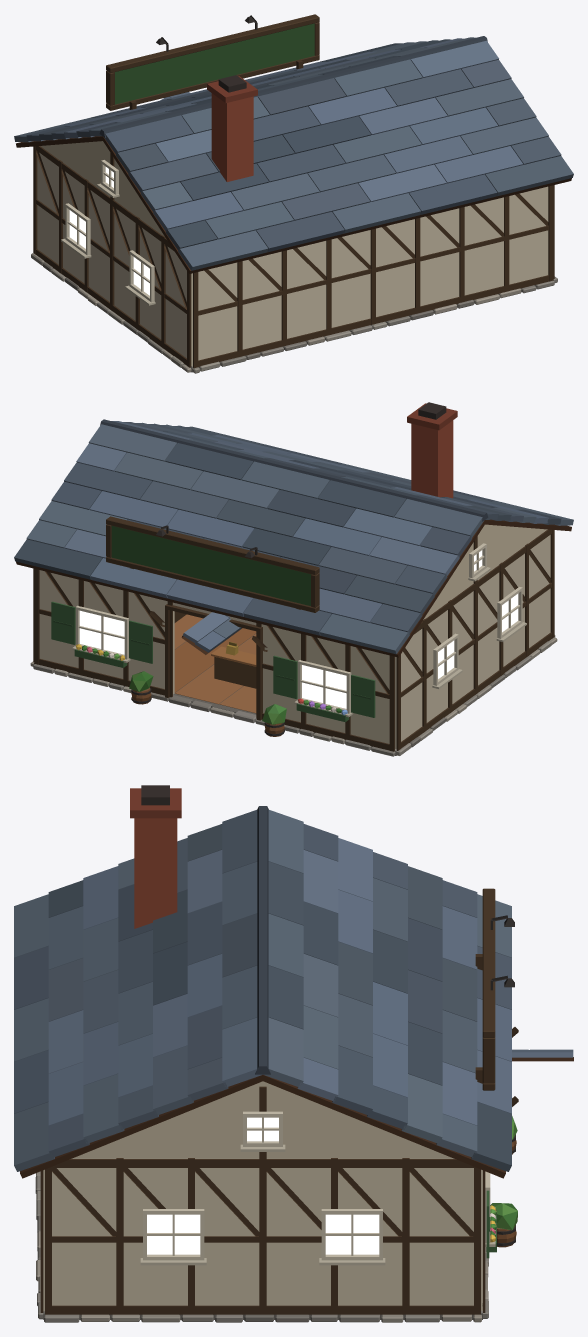
Rendered from GeneralStore.glb.
The picture shows the model from 3 angles, top to bottom: view 1: azimuth 30°, elevation 25°; view 2: azimuth 150°, elevation 25°; view 3: azimuth 270°, elevation 25°; orthographic projection. The views are drawn at different scales.
Visible parts, largest first — view 1: Roof, Body, Sign, Glow; view 2: Roof, Body, Sign, Glow, Counter; view 3: Roof, Body, Glow.
Part boxes in pixels (x1,y1,x2,y2): Roof: (14, 36, 573, 273); Body: (31, 14, 557, 373); Sign: (115, 23, 314, 104); Glow: (69, 167, 149, 295); Roof: (14, 419, 573, 657); Body: (30, 403, 557, 756); Sign: (111, 526, 310, 605); Glow: (79, 550, 518, 708); Counter: (211, 641, 256, 688); Roof: (14, 806, 573, 1178); Body: (35, 788, 518, 1322); Glow: (147, 1117, 379, 1254).
Size of what is drawn, in the model's own units: 51.75 by 31.28 by 47.
